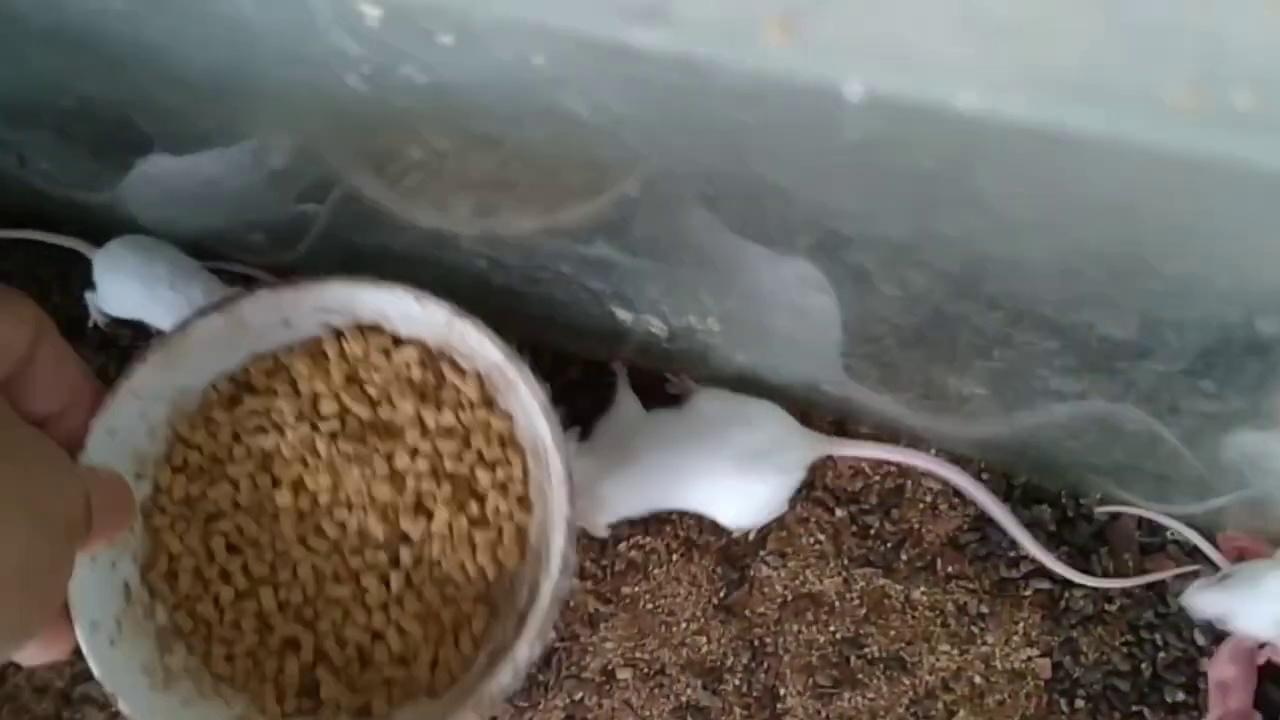rat: (559, 359, 1194, 585), (2, 228, 244, 332)
